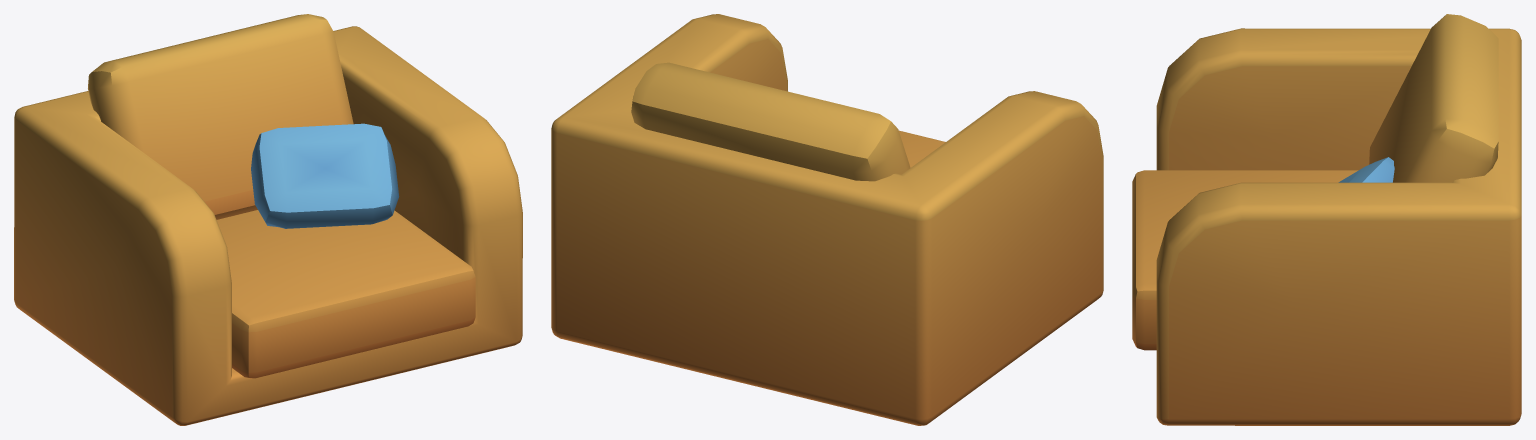
File: armchair-pillows.glb
The picture shows the model from 3 angles, left to right: view 1: azimuth 30°, elevation 25°; view 2: azimuth 150°, elevation 25°; view 3: azimuth 270°, elevation 25°; orthographic projection. The views are drawn at different scales.
Parts seen in each view (by area): view 1: armchair_pillows; view 2: armchair_pillows; view 3: armchair_pillows.
Boxes of the visible parts, x1=… form: armchair_pillows: x1=14, y1=14, x2=522, y2=425; armchair_pillows: x1=551, y1=14, x2=1103, y2=425; armchair_pillows: x1=1132, y1=14, x2=1521, y2=425.
Size of the model in its own units: 1.8 by 1.22 by 1.6.
